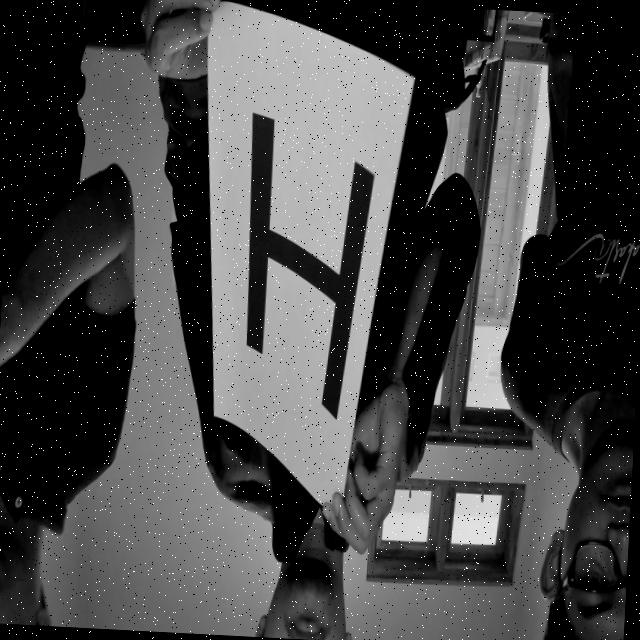h: (214, 89, 394, 442)
